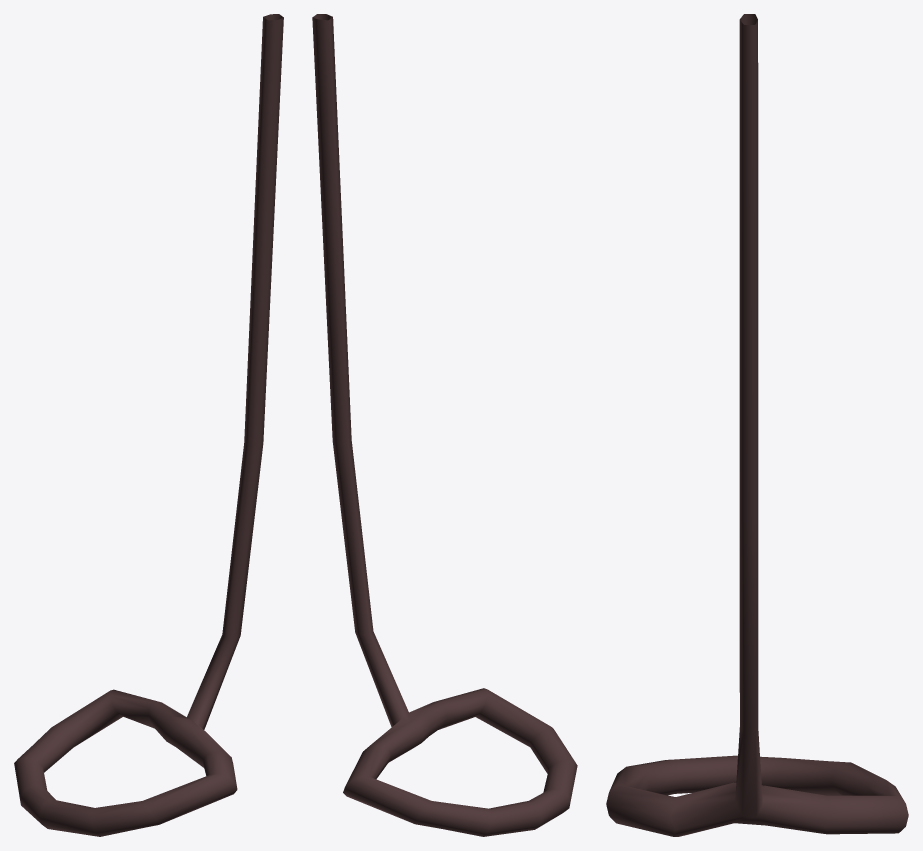
Rendered from SM_BabyDoll_3_rope.fbx.
3 renders of one model, left to right at view 1: azimuth 30°, elevation 25°; view 2: azimuth 150°, elevation 25°; view 3: azimuth 270°, elevation 25°, orthographic. The views are drawn at different scales.
Parts seen in each view (by area): view 1: SM_BabyDoll_3_rope; view 2: SM_BabyDoll_3_rope; view 3: SM_BabyDoll_3_rope.
Part boxes in pixels (x1,y1,x2,y2): SM_BabyDoll_3_rope: (14, 14, 283, 836); SM_BabyDoll_3_rope: (312, 14, 577, 836); SM_BabyDoll_3_rope: (606, 14, 908, 836).
Bounding box in the file's own units: 7.08 × 6.18 × 20.38.
1 material, 1 textured.
